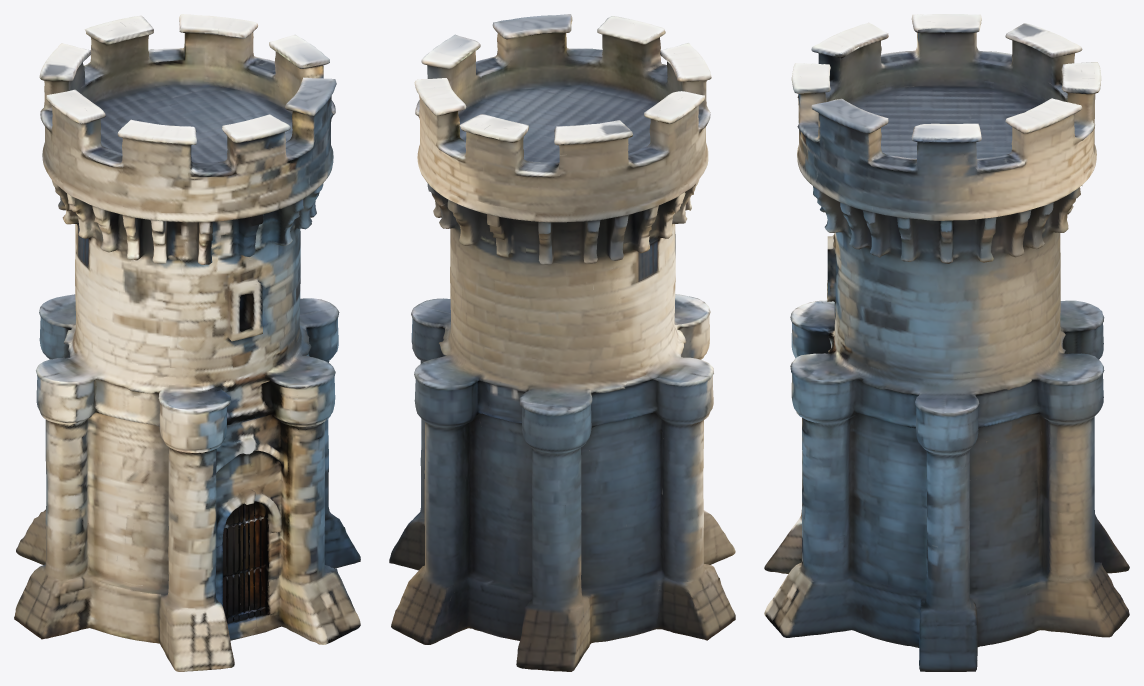
The model's file is base_basic_shaded.fbx.
The picture shows the model from 3 angles, left to right: view 1: azimuth 30°, elevation 25°; view 2: azimuth 150°, elevation 25°; view 3: azimuth 270°, elevation 25°; orthographic projection.
Parts seen in each view (by area): view 1: model; view 2: model; view 3: model.
Part boxes in pixels (x1=…): model: x1=14, y1=14, x2=360, y2=671; model: x1=389, y1=14, x2=735, y2=671; model: x1=764, y1=14, x2=1129, y2=671.
Size of the model in its own units: 120 by 185 by 118.
